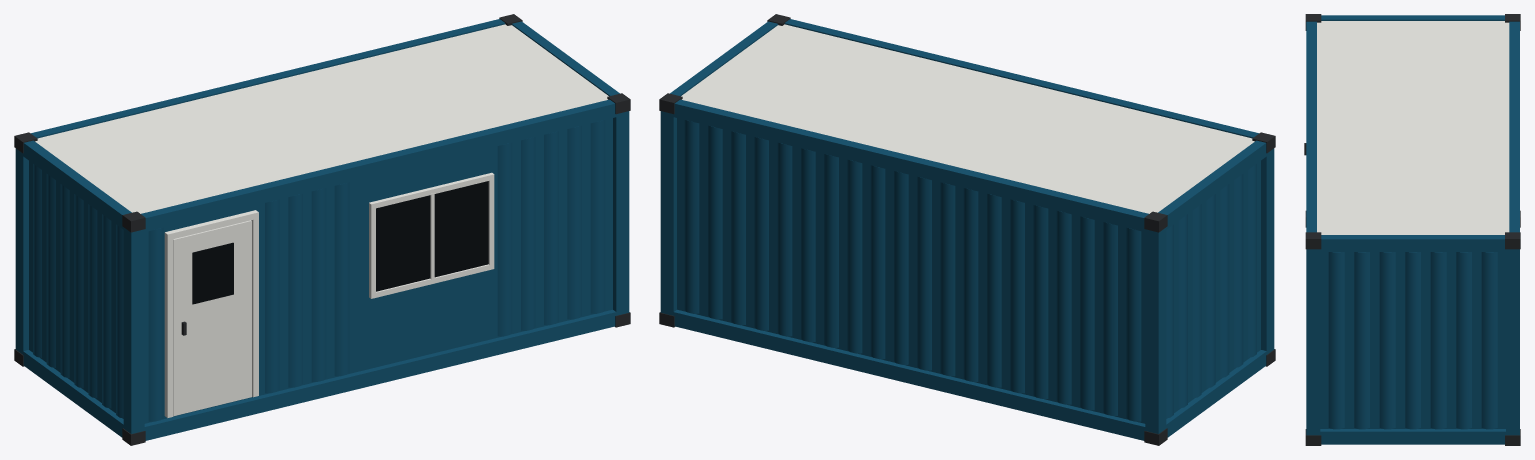
File: plant.cabin.site_office.glb
3 views of the same model, side by side, from view 1: azimuth 30°, elevation 25°; view 2: azimuth 150°, elevation 25°; view 3: azimuth 270°, elevation 25° (orthographic). The views are drawn at different scales.
Parts seen in each view (by area): view 1: main__container_blue, main__paint_white, frame__container_blue, main__glass_dark, frame__steel_dark; view 2: main__container_blue, main__paint_white, frame__container_blue, frame__steel_dark; view 3: main__paint_white, main__container_blue, frame__container_blue, frame__steel_dark.
Boxes of the visible parts, x1,y1,x2,y2 form: main__container_blue: [29, 118, 612, 423]; main__paint_white: [35, 24, 608, 417]; frame__container_blue: [15, 19, 629, 440]; main__glass_dark: [192, 181, 488, 304]; frame__steel_dark: [14, 14, 630, 445]; main__container_blue: [677, 118, 1260, 423]; main__paint_white: [681, 24, 1254, 213]; frame__container_blue: [660, 19, 1274, 440]; frame__steel_dark: [659, 14, 1275, 445]; main__paint_white: [1317, 21, 1509, 234]; main__container_blue: [1320, 252, 1505, 429]; frame__container_blue: [1306, 15, 1519, 444]; frame__steel_dark: [1305, 14, 1520, 445].
Size of the model in its own units: 6.08 by 2.61 by 2.48.
